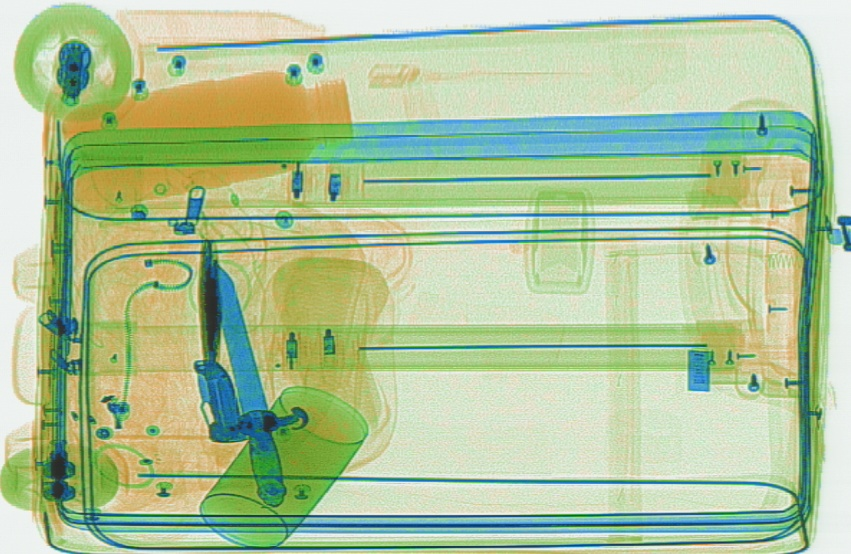knife: (203, 248, 309, 509), (191, 352, 245, 442)
